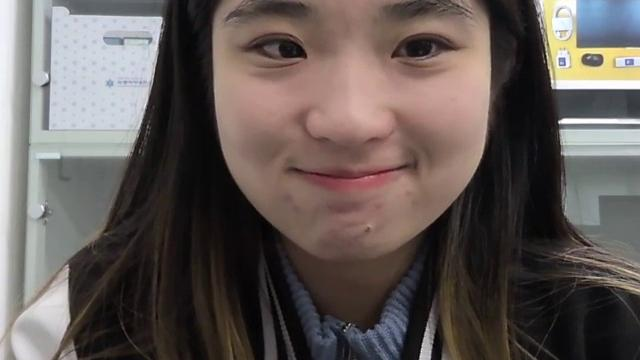eye: (406, 40, 426, 58), (281, 40, 299, 58)
iris: (395, 37, 446, 56), (257, 38, 301, 58)
